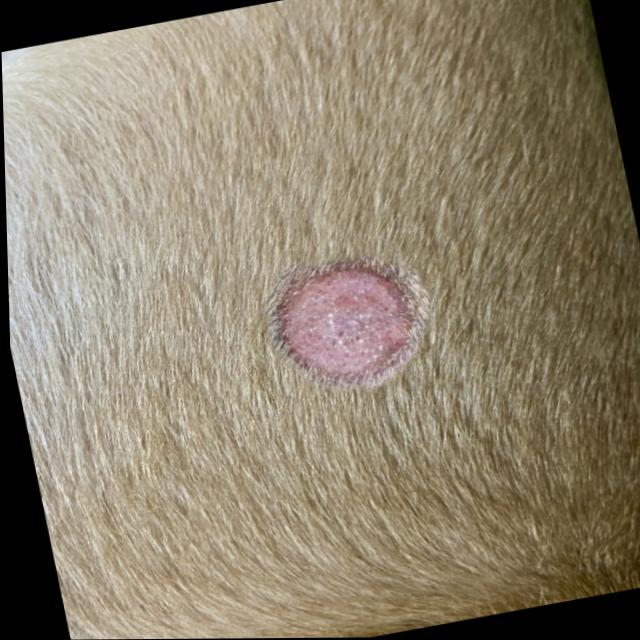ringworm: (243, 240, 448, 401)
